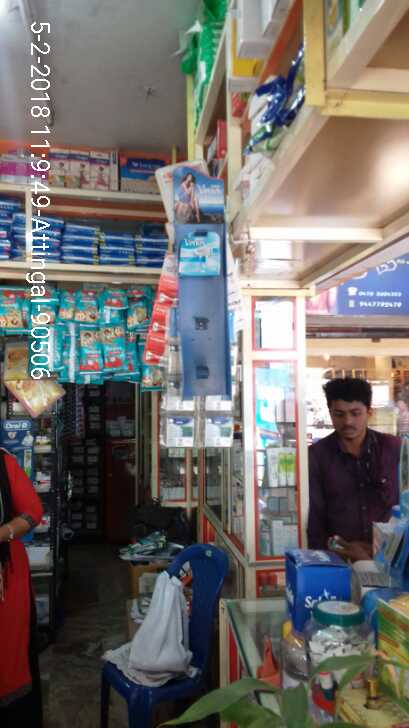beauty: (175, 228, 230, 282)
pharmacy: (102, 284, 148, 325), (76, 319, 105, 373), (104, 324, 130, 373), (1, 290, 28, 337), (69, 291, 96, 319)
